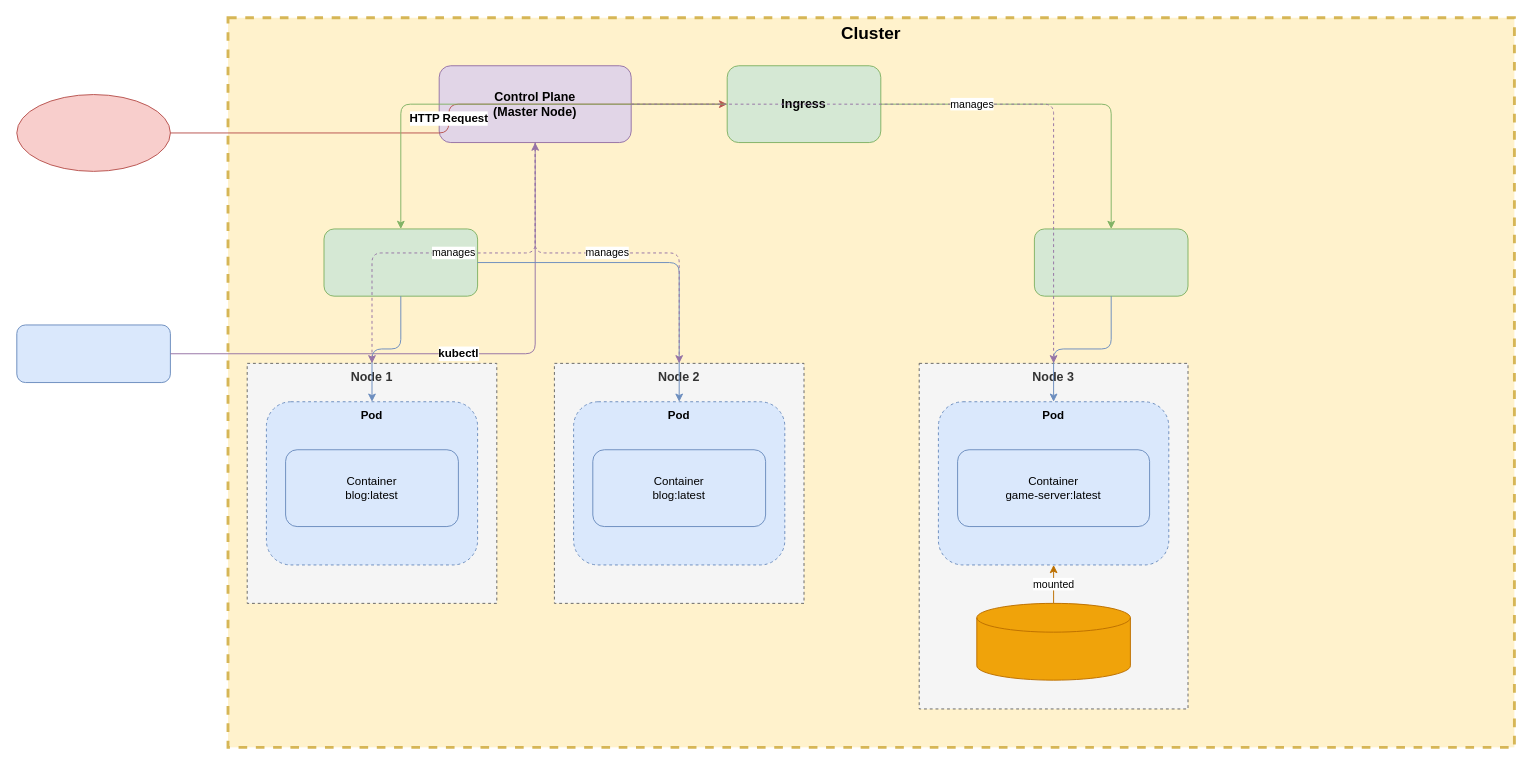
Image size: 1532x765. Some labels were removed from this diagram. Here are the shapes that lost their labels. From the top down, the centre of each, then its label:
At point (93, 132): "Internet".
At point (400, 262): "Service (Blog)".
At point (1110, 262): "Service (Game Server)".
At point (93, 353): "Your Computer".
At point (1053, 641): "Volume (game-data)".
